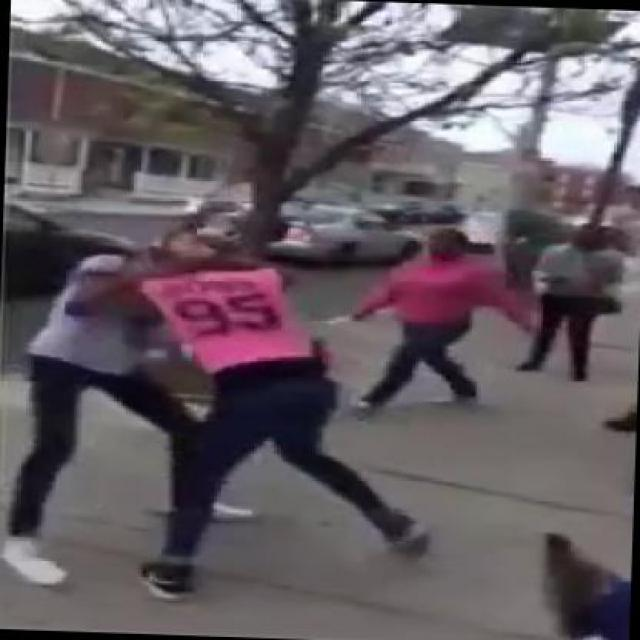fight: (0, 223, 438, 610)
